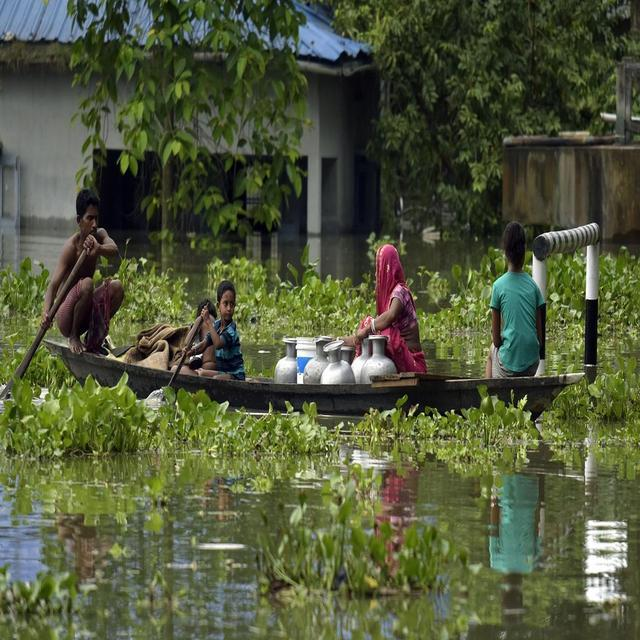Person-RiskLevel3: (38, 182, 135, 360), (469, 211, 568, 375), (339, 238, 449, 381), (182, 277, 253, 387)
